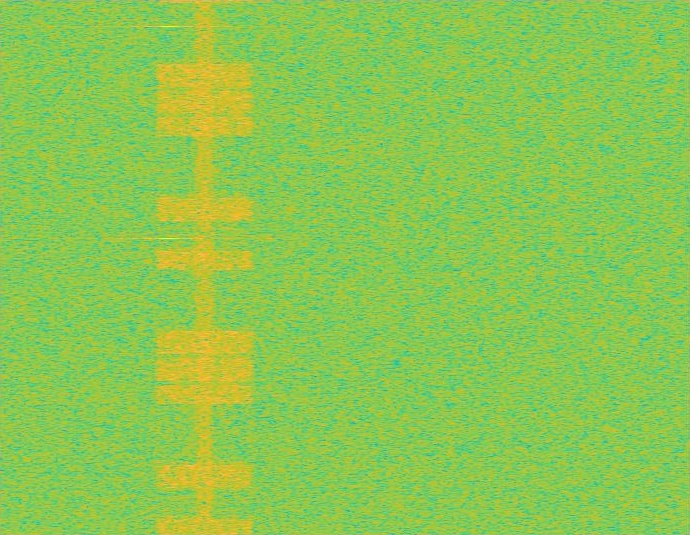DSSS: (193, 0, 216, 534)
LTE: (153, 0, 256, 534)
Radar: (161, 0, 175, 534)
